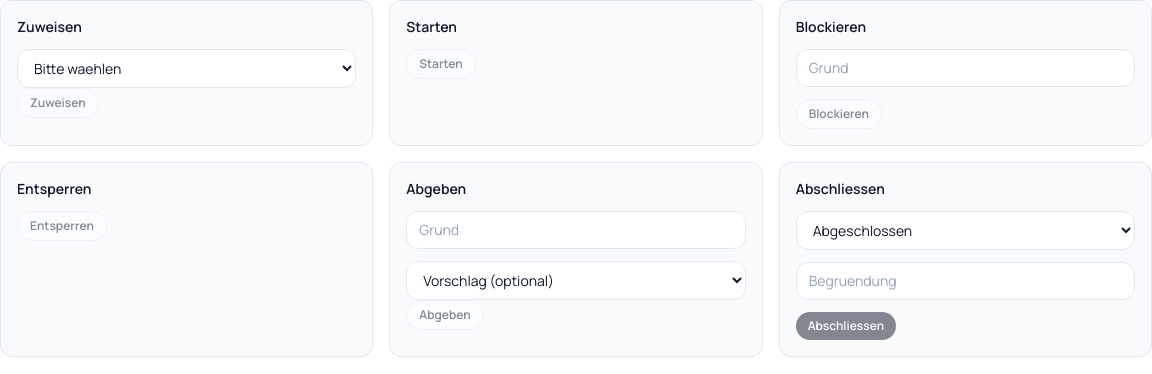
Scenario: TaskActionsComponent › enables assign only for OPEN tasks
The image size is (1152, 374).
Select "Maria Becker — Beratung" in the 1st dropdown at (187, 68), box [17, 49, 356, 88]
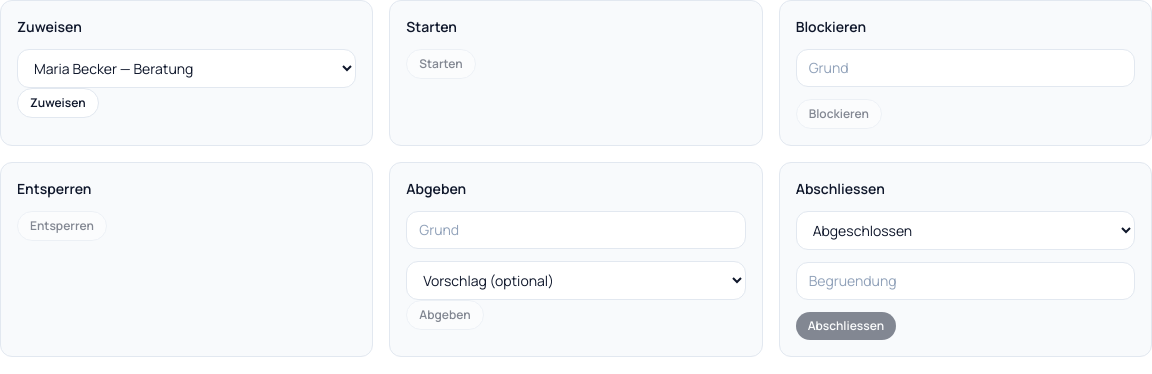
Expected: the button "Starten" is disabled, [406, 49, 476, 79]
Result: the button "Zuweisen" is enabled at [17, 88, 98, 118]
